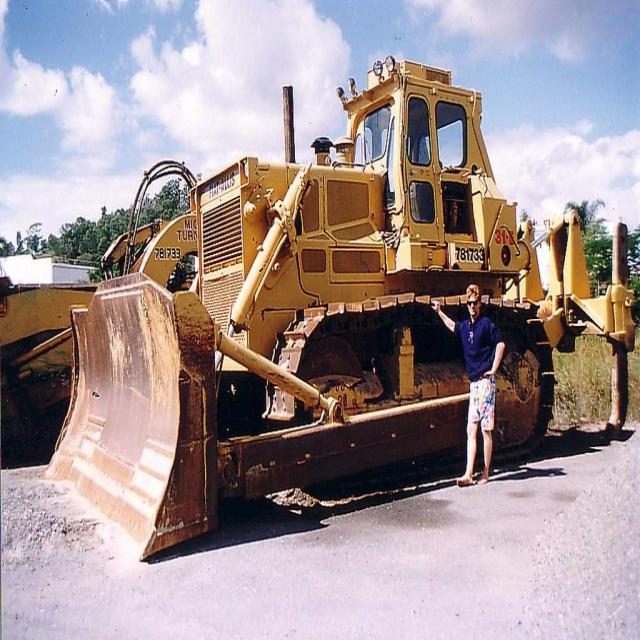buldozerpayloadergrader: (49, 51, 589, 552)
